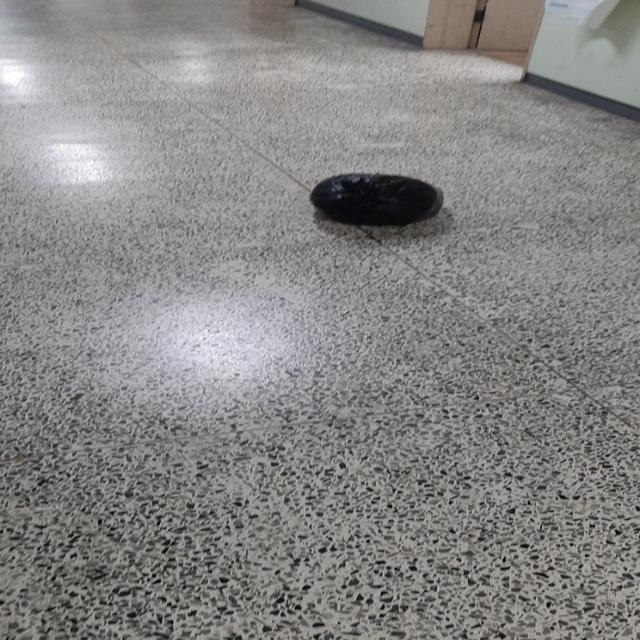black_bag: (310, 173, 444, 227)
